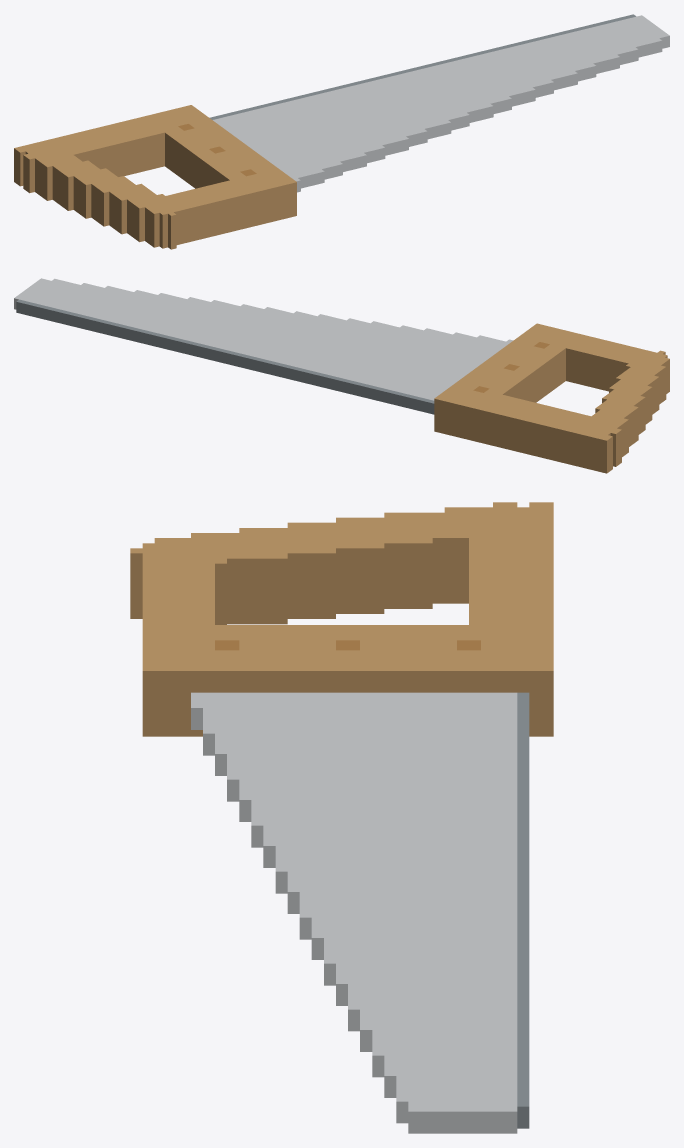
The model's file is saw.glb.
3 views of the same model, one above another, from view 1: azimuth 30°, elevation 25°; view 2: azimuth 150°, elevation 25°; view 3: azimuth 270°, elevation 25° (orthographic). The views are drawn at different scales.
Parts seen in each view (by area): view 1: saw:compound; view 2: saw:compound; view 3: saw:compound.
Part boxes in pixels (x1,y1,x2,y2): saw:compound: (14, 14, 669, 249); saw:compound: (14, 278, 669, 473); saw:compound: (130, 502, 553, 1133).
Size of the model in its own units: 0.46 by 0.024 by 0.14.
